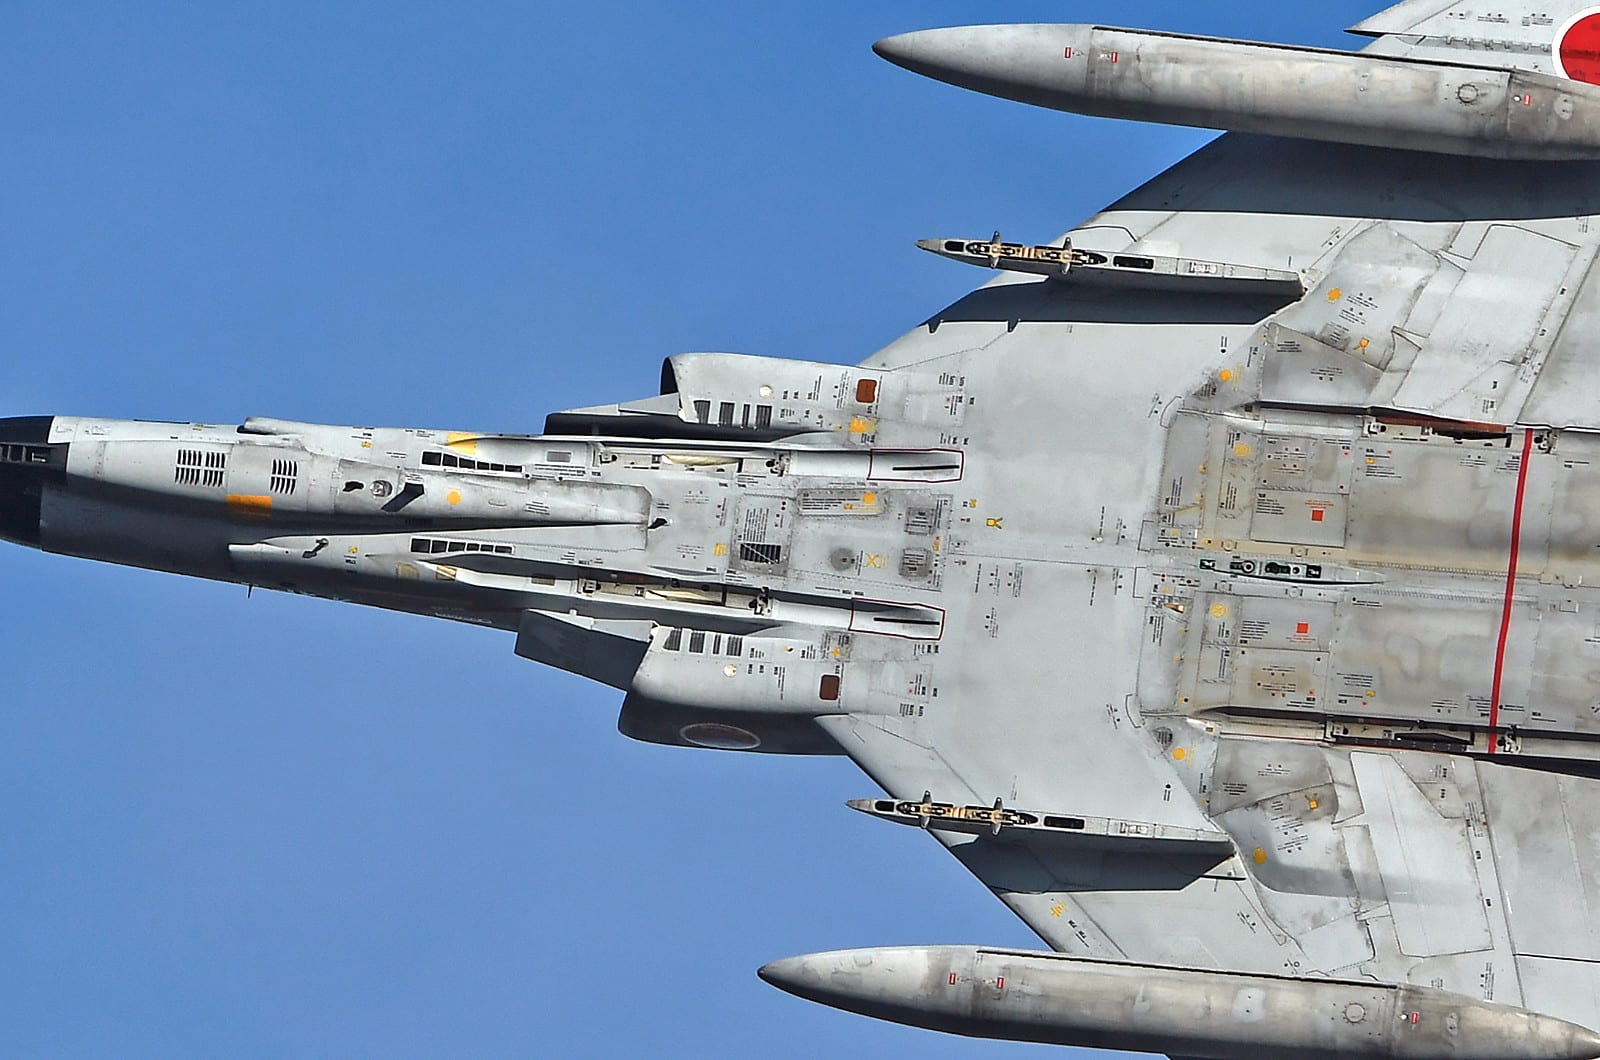F4: (1, 1, 1600, 1060)
